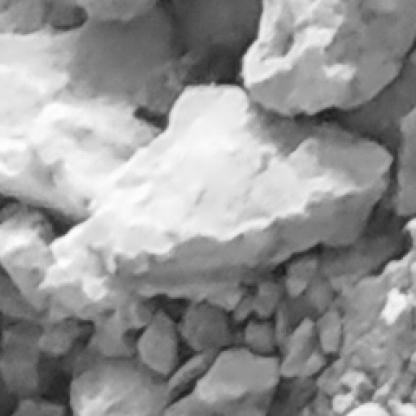cementitious_debris: (0, 2, 414, 413)
